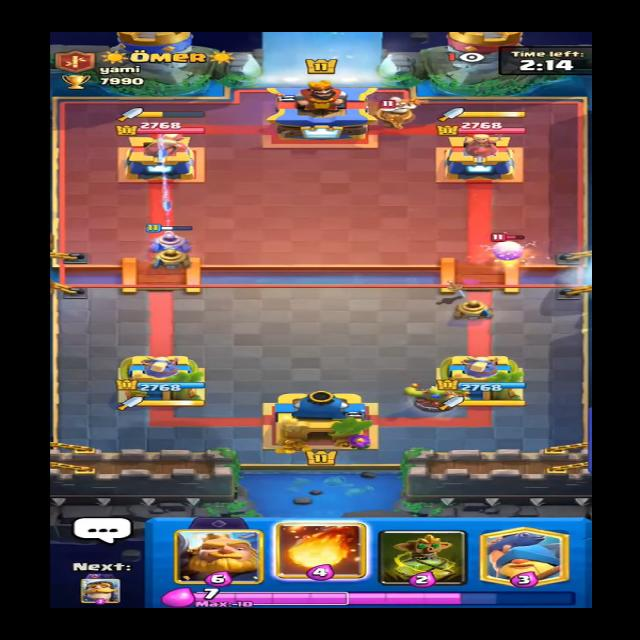barbarian-hut: (362, 90, 421, 125)
phoenix-egg: (480, 228, 545, 266)
